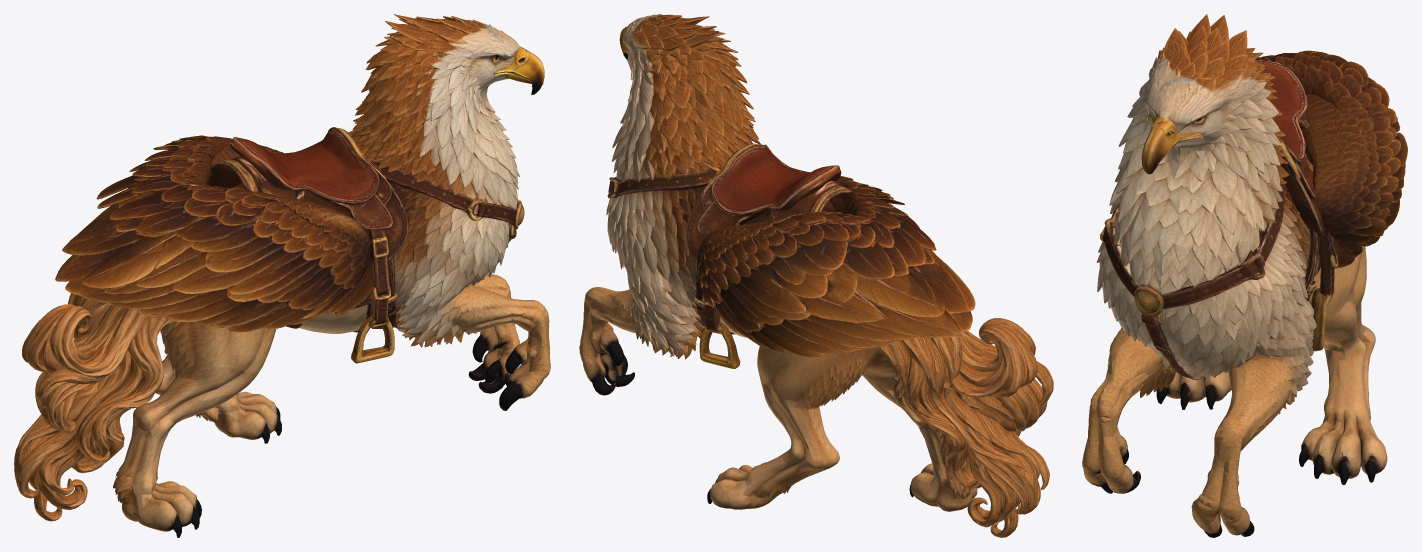
The model's file is griffin.glb.
3 renders of one model, left to right at view 1: azimuth 30°, elevation 25°; view 2: azimuth 150°, elevation 25°; view 3: azimuth 270°, elevation 25°, orthographic. The views are drawn at different scales.
Bounding box in the file's own units: 1.9 × 1.61 × 0.9249.
1 material, 1 textured.
